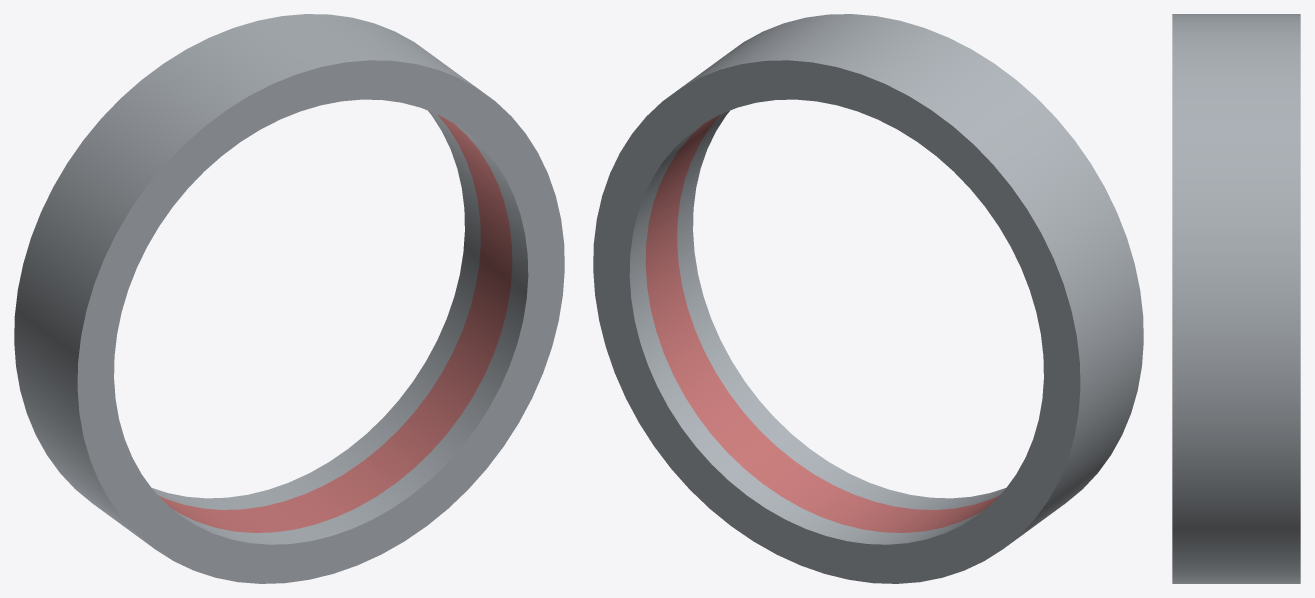
Rendered from step_12.glb.
The picture shows the model from 3 angles, left to right: view 1: azimuth 30°, elevation 25°; view 2: azimuth 150°, elevation 25°; view 3: azimuth 270°, elevation 25°; orthographic projection.
Visible parts, largest first — view 1: part__bearing outer ring, removed__bearing outer ring; view 2: part__bearing outer ring, removed__bearing outer ring; view 3: part__bearing outer ring.
Part boxes in pixels (x1=…): part__bearing outer ring: x1=14, y1=14, x2=564, y2=583; removed__bearing outer ring: x1=158, y1=114, x2=512, y2=532; part__bearing outer ring: x1=593, y1=14, x2=1143, y2=583; removed__bearing outer ring: x1=645, y1=114, x2=999, y2=532; part__bearing outer ring: x1=1172, y1=14, x2=1300, y2=583.
Size of the model in its own units: 79.98 by 79.95 by 18.
